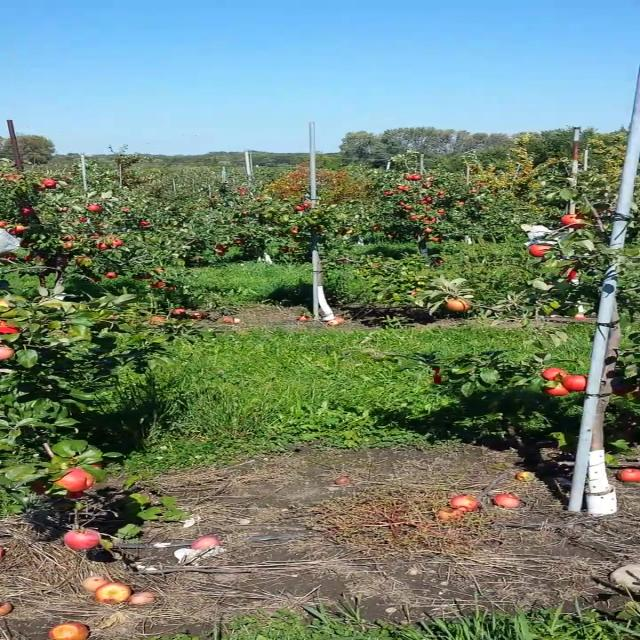apple: (50, 468, 95, 490), (62, 530, 100, 550), (442, 298, 471, 312), (564, 375, 588, 391), (543, 382, 570, 396), (526, 244, 555, 256), (561, 214, 585, 228), (542, 369, 567, 381), (1, 320, 21, 334), (30, 480, 46, 494), (1, 346, 13, 360), (68, 490, 86, 499), (86, 463, 100, 469), (2, 298, 8, 306)
